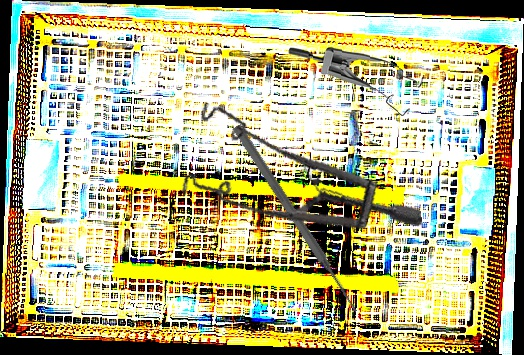Pusher: (230, 122, 362, 316)
Speculum: (167, 68, 424, 267), (285, 45, 426, 117)
